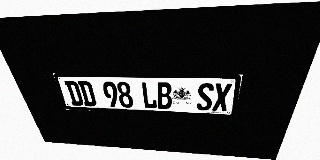8: (116, 82, 134, 108)
9: (101, 81, 120, 107)
B: (156, 82, 172, 109)
D: (64, 81, 84, 106), (77, 81, 97, 106)
L: (141, 82, 157, 109)
S: (196, 83, 214, 111)
X: (212, 83, 232, 111)
